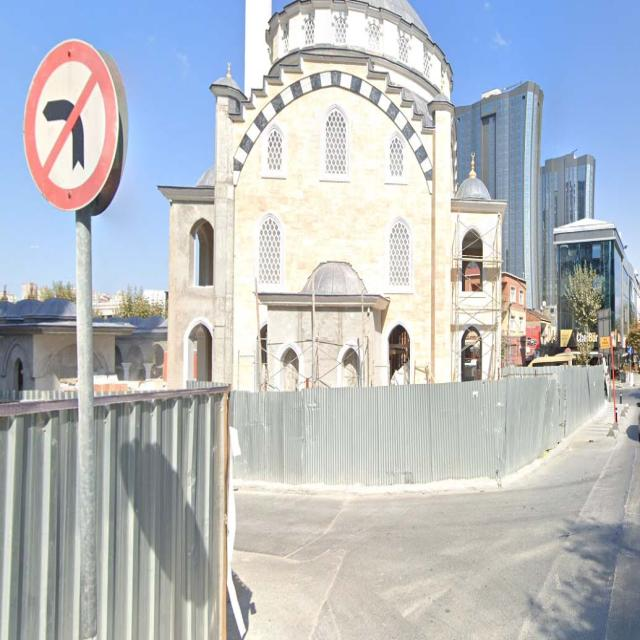soladonulmez: (22, 39, 119, 212)
